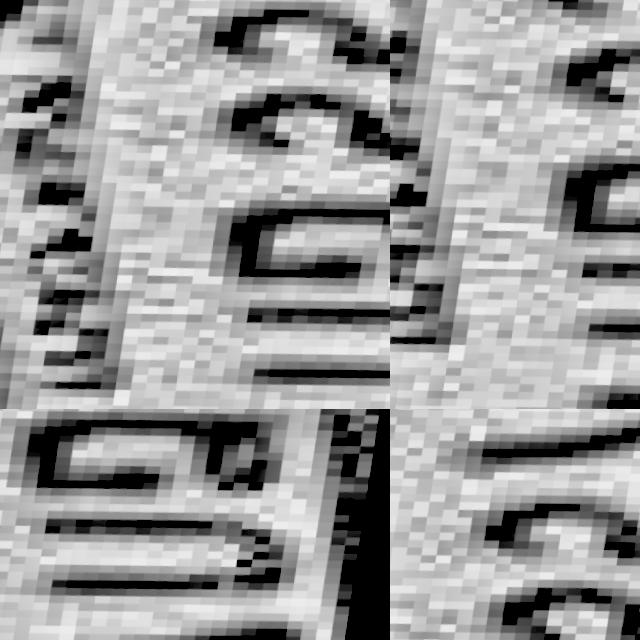license-plate: (0, 0, 390, 409), (390, 0, 640, 409), (0, 409, 390, 640), (390, 409, 640, 640)
